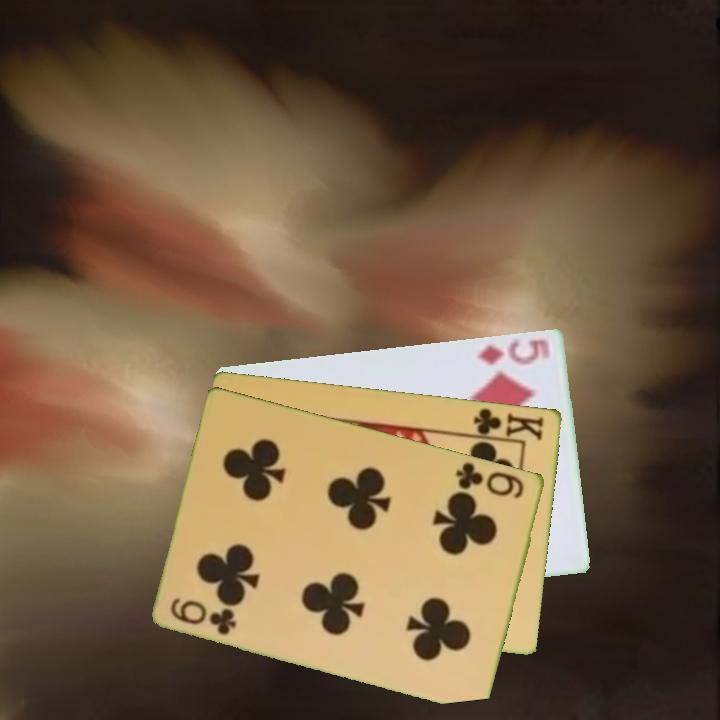5d: (474, 335, 554, 368)
6c: (452, 458, 527, 501), (167, 594, 240, 638)
Kc: (466, 404, 547, 444)
